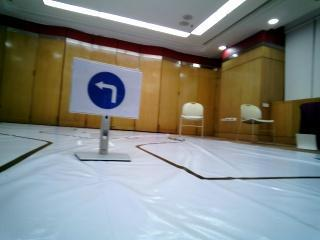left: (73, 58, 133, 117)
